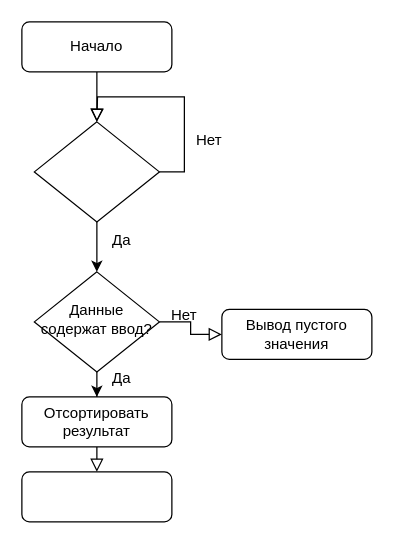
This 394x544 diagram has some shape labels left out. The box of each missing label's shape, as (x1, y1, x2, y2) in pixels:
Вывод результата: (21, 471, 172, 522)
Текст поля ввода изменился?: (33, 121, 159, 222)
